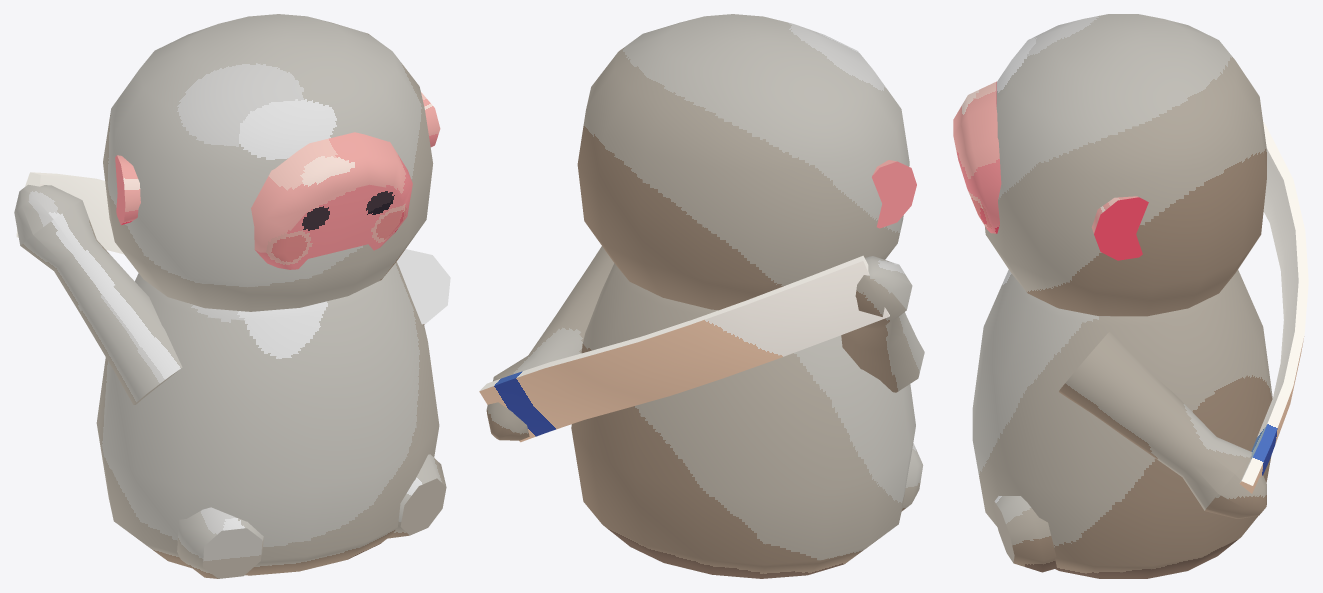
Rendered from scrub.glb.
3 views of the same model, side by side, from view 1: azimuth 30°, elevation 25°; view 2: azimuth 150°, elevation 25°; view 3: azimuth 270°, elevation 25° (orthographic).
Visible parts, largest first — view 1: body, head, face, armL, legL, armR, legR, towel, earL; view 2: head, body, towel, armL, armR, earL, legL; view 3: head, body, armR, towel, face, legR, earR.
Part boxes in pixels (left/top/right/bottom): body: left=96, top=262, right=439, bottom=575; head: left=103, top=14, right=433, bottom=311; face: left=251, top=132, right=412, bottom=269; armL: left=14, top=184, right=182, bottom=404; legL: left=177, top=507, right=263, bottom=578; armR: left=396, top=249, right=450, bottom=325; legR: left=387, top=454, right=446, bottom=538; towel: left=16, top=172, right=123, bottom=254; earL: left=115, top=155, right=140, bottom=224; head: left=577, top=14, right=909, bottom=310; body: left=571, top=263, right=915, bottom=578; towel: left=479, top=255, right=889, bottom=442; armL: left=841, top=256, right=924, bottom=392; armR: left=486, top=246, right=613, bottom=440; earL: left=872, top=160, right=916, bottom=228; legL: left=901, top=443, right=923, bottom=511; head: left=985, top=14, right=1266, bottom=316; body: left=972, top=269, right=1272, bottom=578; armR: left=1059, top=332, right=1266, bottom=518; towel: left=1239, top=121, right=1308, bottom=493; face: left=953, top=81, right=1001, bottom=233; legR: left=993, top=496, right=1056, bottom=572; earR: left=1091, top=196, right=1148, bottom=260.
Bounding box in the file's own units: 25.26 × 29.2 × 19.33.
1 material, 1 textured.
